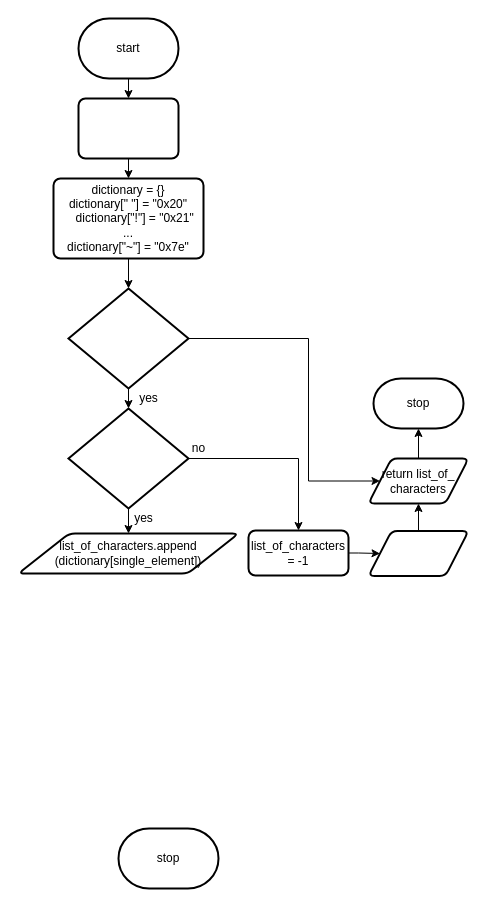
The diagram is 486 pixels wide and 906 high, and some of its shapes have lost their labels. Here are the shapes that lost their labels. From the top down, the centre of each, then its label:
the point at 128,128: get user input string
the point at 128,338: for single_element in quote
the point at 128,458: if single_element in dictionary.keys()
the point at 418,553: break
